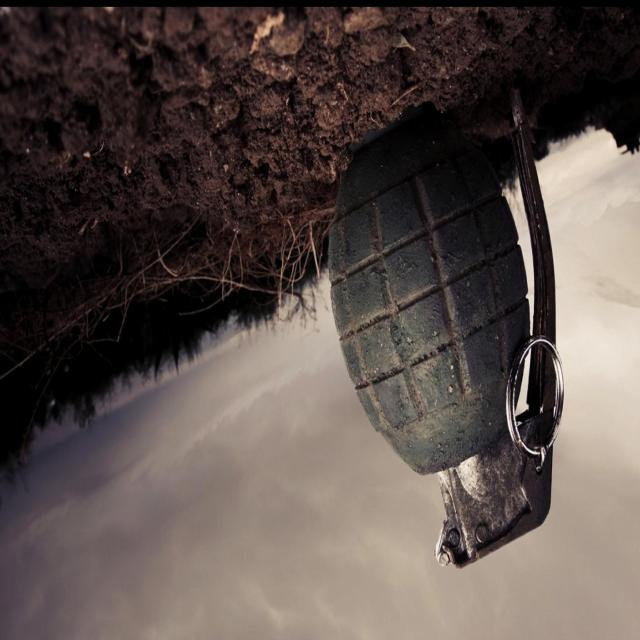grenade: (329, 92, 565, 570)
